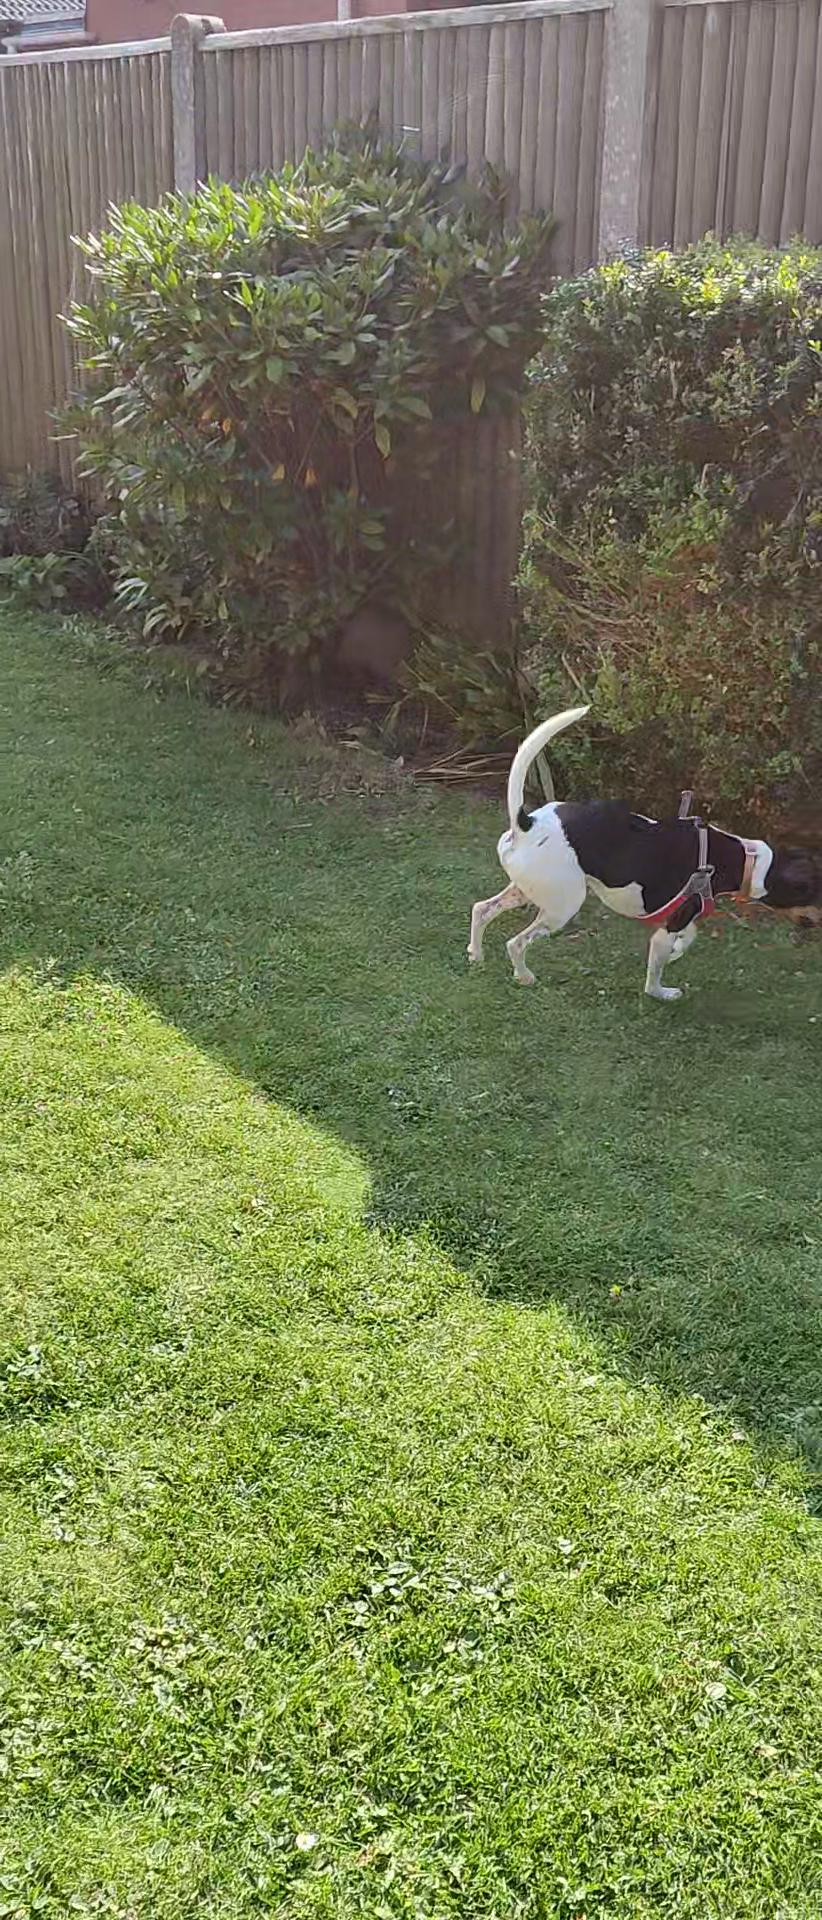Dog: (453, 698, 821, 1008)
